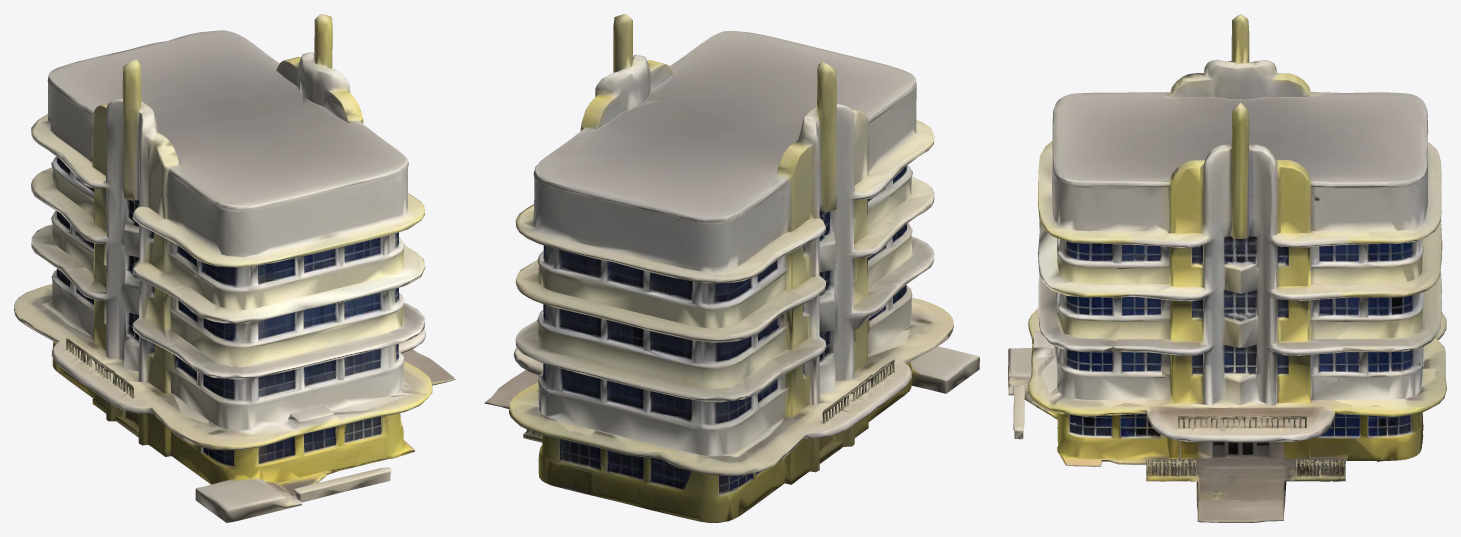
The model's file is bld_hotel_5.glb.
The picture shows the model from 3 angles, left to right: view 1: azimuth 30°, elevation 25°; view 2: azimuth 150°, elevation 25°; view 3: azimuth 270°, elevation 25°; orthographic projection. The views are drawn at different scales.
Visible parts, largest first — view 1: tripo_node_ce1a56bd-6b22-4a78-887b-337b81b2c443; view 2: tripo_node_ce1a56bd-6b22-4a78-887b-337b81b2c443; view 3: tripo_node_ce1a56bd-6b22-4a78-887b-337b81b2c443.
Part boxes in pixels (x1,y1,x2,y2): tripo_node_ce1a56bd-6b22-4a78-887b-337b81b2c443: (14,14,455,522); tripo_node_ce1a56bd-6b22-4a78-887b-337b81b2c443: (484,14,979,522); tripo_node_ce1a56bd-6b22-4a78-887b-337b81b2c443: (1008,14,1446,522).
Bounding box in the file's own units: 0.8813 × 0.9035 × 0.9804.
Materials: 1 (1 with a texture image).
